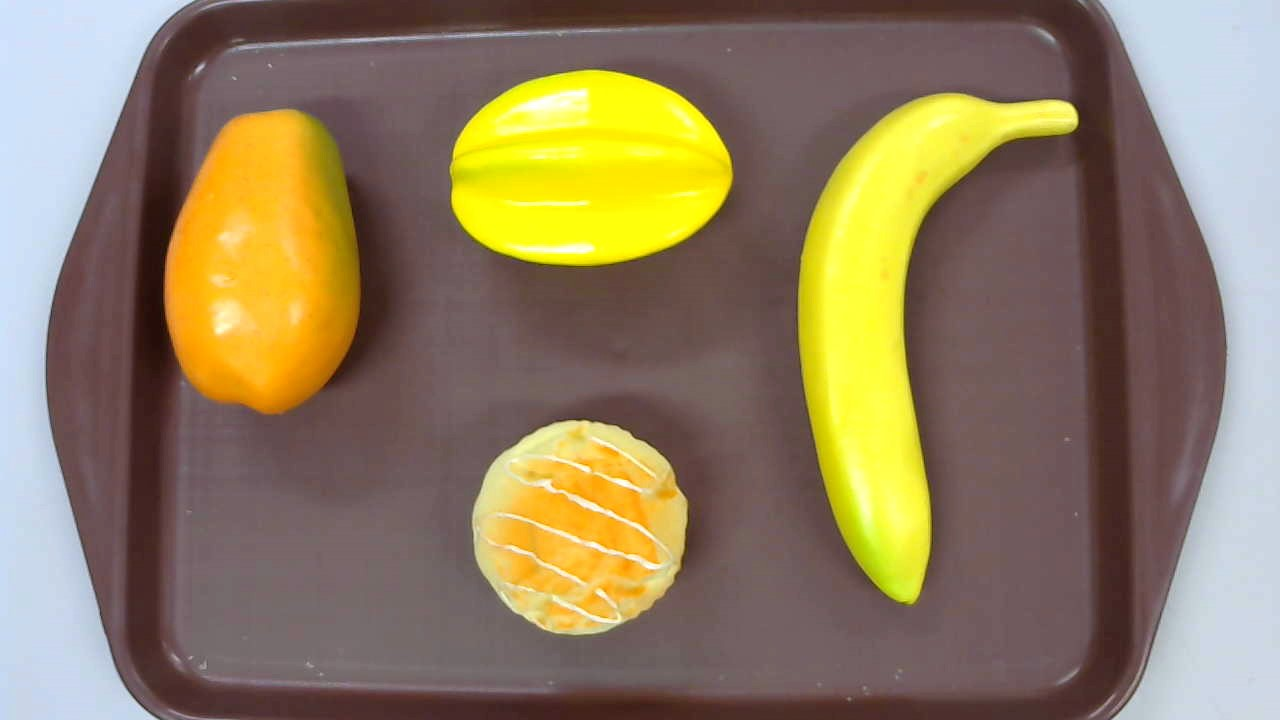banana: (797, 92, 1078, 608)
cupcake: (470, 420, 689, 634)
papya: (161, 108, 360, 414)
star fruit: (450, 69, 734, 268)
